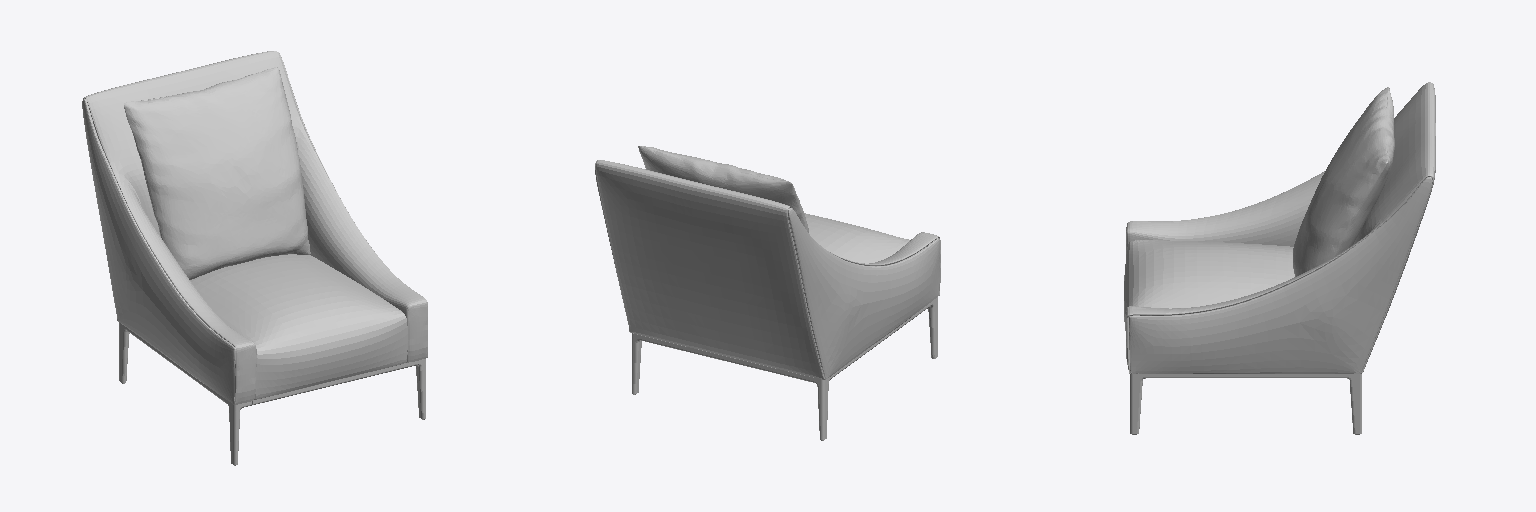
File: armchair.obj
3 views of the same model, side by side, from view 1: azimuth 30°, elevation 25°; view 2: azimuth 150°, elevation 25°; view 3: azimuth 270°, elevation 25° (orthographic).
Parts seen in each view (by area): view 1: sides, pillow, seat, legs; view 2: sides, pillow, seat, legs; view 3: sides, seat, pillow, legs.
Part boxes in pixels (x1,y1,x2,y2): sides: (82,51,427,405); pillow: (124,67,310,279); seat: (190,254,407,399); legs: (119,322,425,465); sides: (595,160,940,379); pillow: (638,146,808,232); seat: (804,213,909,263); legs: (632,297,937,440); sides: (1126,82,1435,373); seat: (1124,240,1294,330); pillow: (1293,87,1394,276); legs: (1130,374,1361,434).
Size of the model in its own units: 152 by 185 by 199.